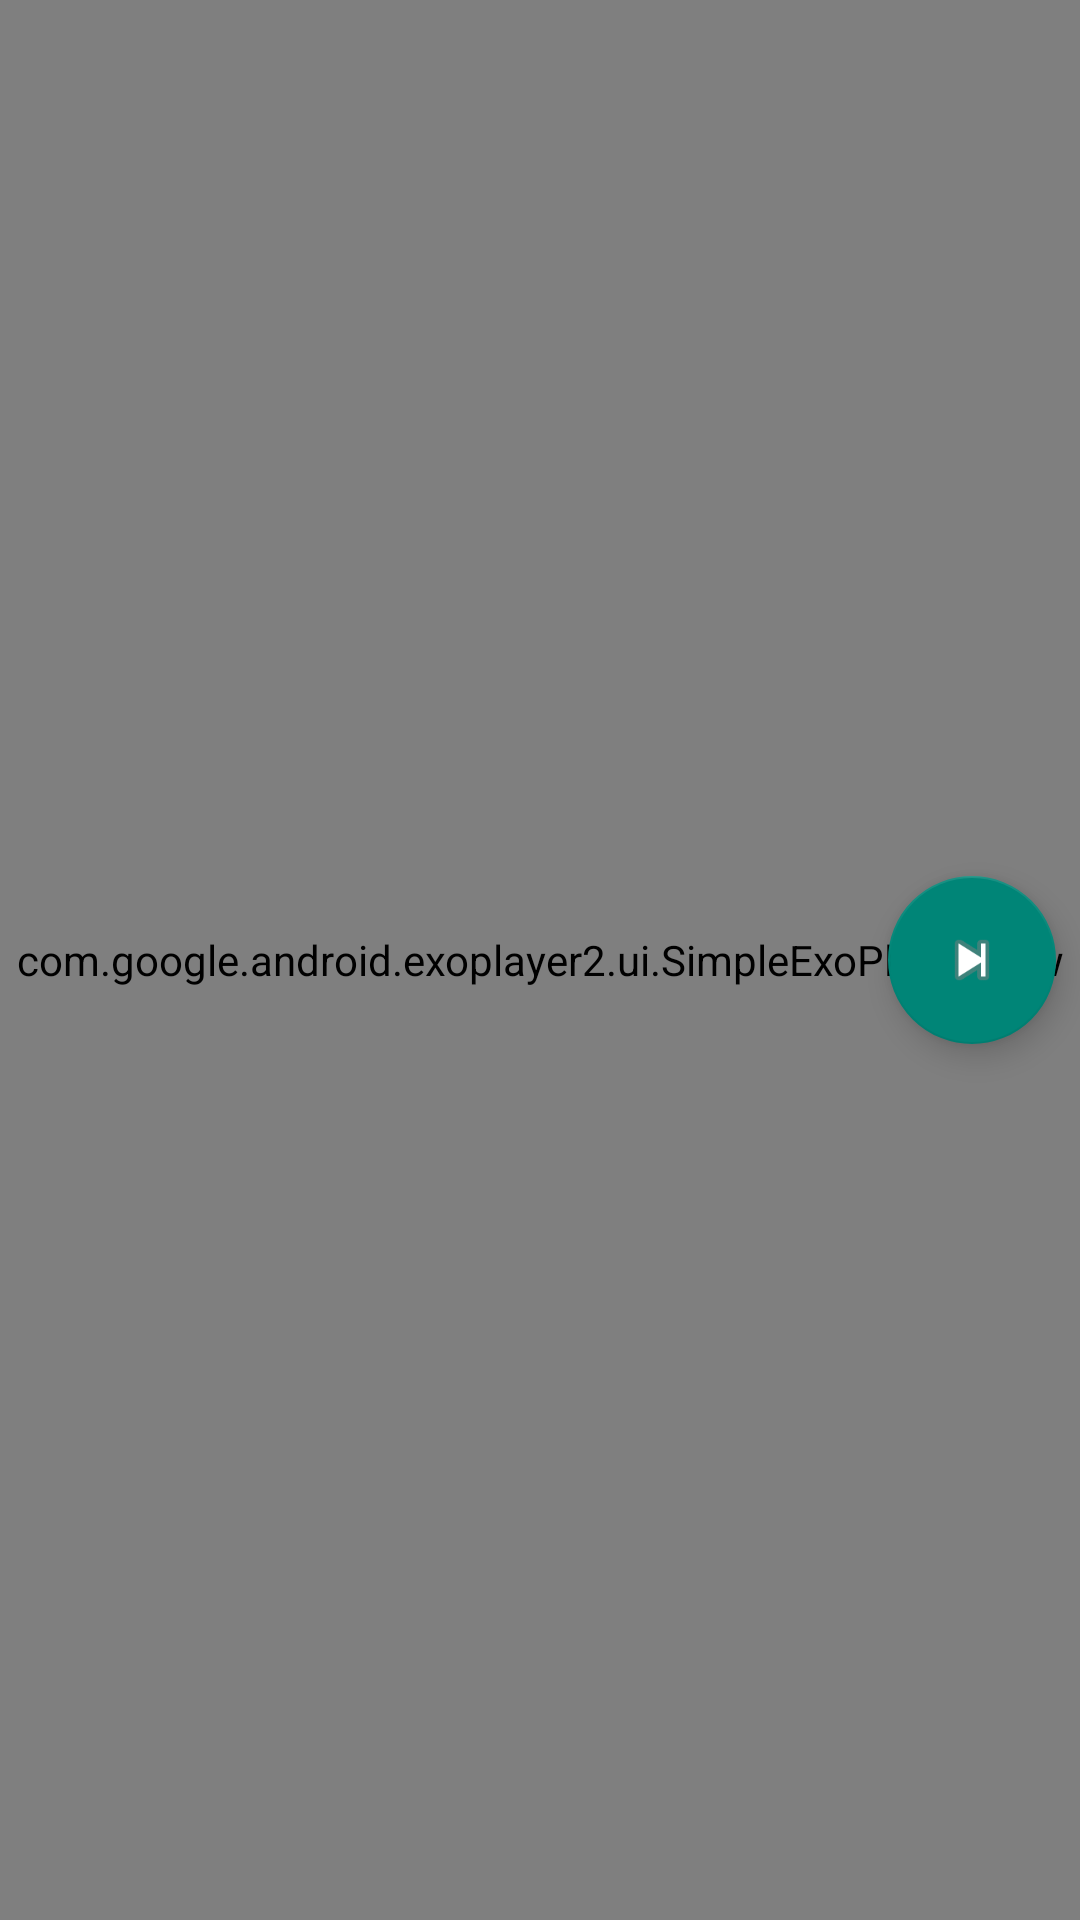

Where icons sit on this 1080x1920 app screen, as (x1, y1, x2, y2):
next: (888, 876, 1056, 1044)
